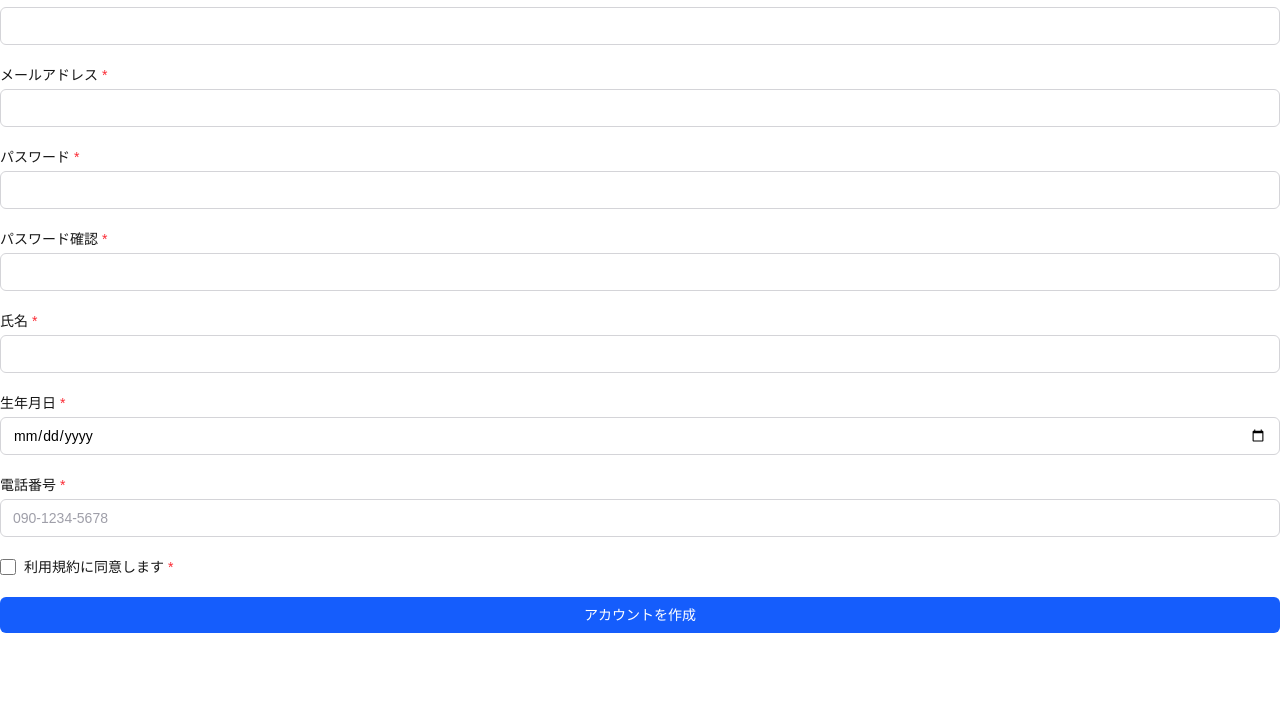
Test case: RegisterForm › 空送信時に必須フィールドにエラーが表示される
Step 1. Click the button "アカウントを作成" → (640, 615), box 0,597 -> 1279,633
(page scrolled)
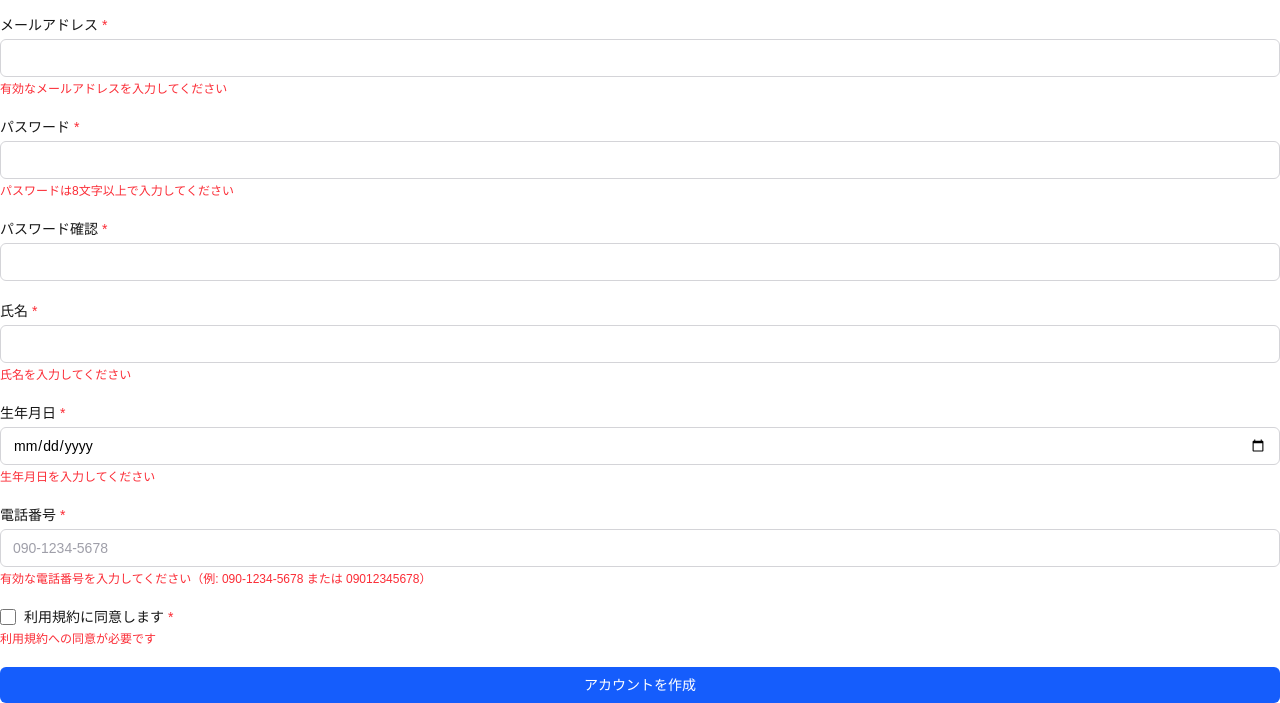
Expected: the text "有効なメールアドレスを入力してください" is shown, 0,82 -> 227,96
Expected: the text "パスワードは8文字以上で入力してください" is shown, 0,184 -> 234,198
Expected: the text "氏名を入力してください" is shown, 0,368 -> 131,382
